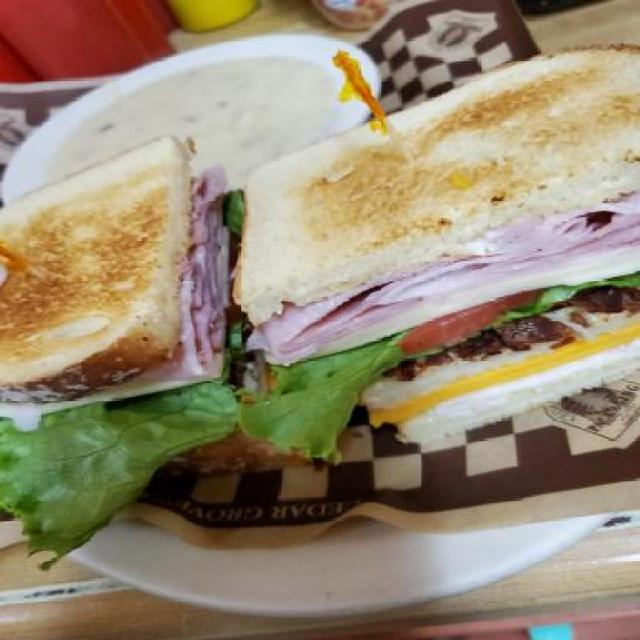clam chowder: (19, 36, 376, 176)
club sandwich: (4, 68, 639, 502)
